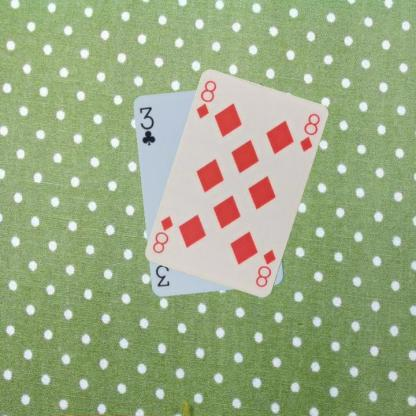3c: (138, 104, 157, 147)
8d: (193, 78, 218, 120), (253, 247, 277, 289)
